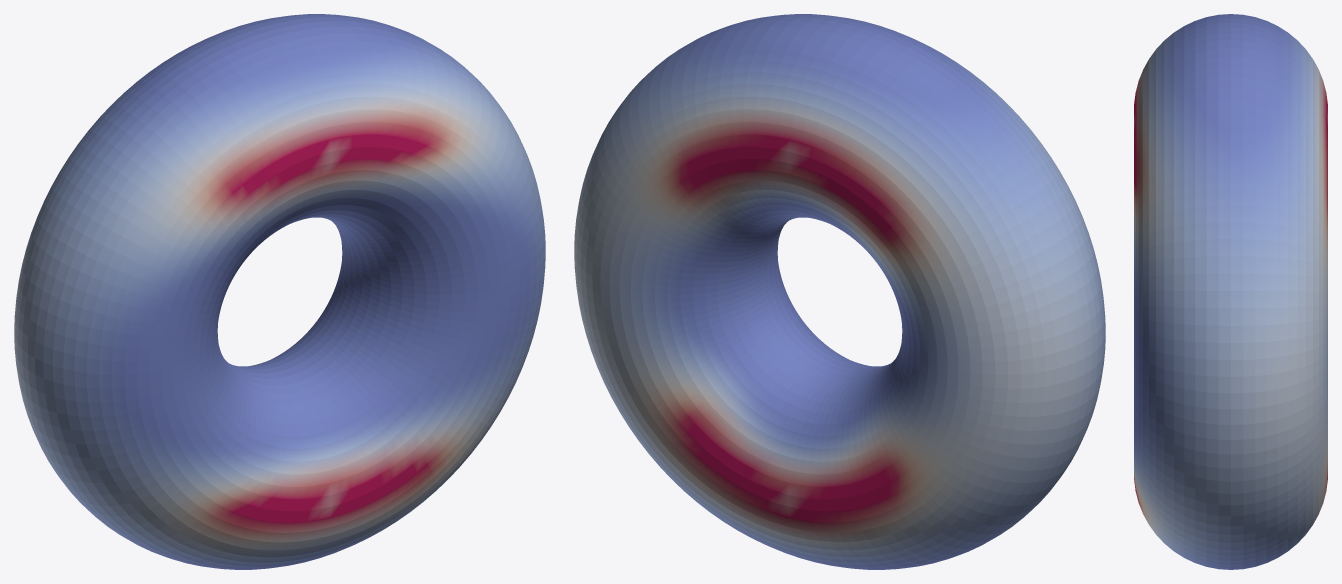
3 views of the same model, side by side, from view 1: azimuth 30°, elevation 25°; view 2: azimuth 150°, elevation 25°; view 3: azimuth 270°, elevation 25° (orthographic). The views are drawn at different scales.
Visible parts, largest first — view 1: world; view 2: world; view 3: world.
Boxes of the visible parts, x1,y1,x2,y2 form: world: [14, 14, 545, 569]; world: [574, 14, 1105, 569]; world: [1134, 14, 1327, 569].
Size of the model in its own units: 16.4 by 16.4 by 5.72.
